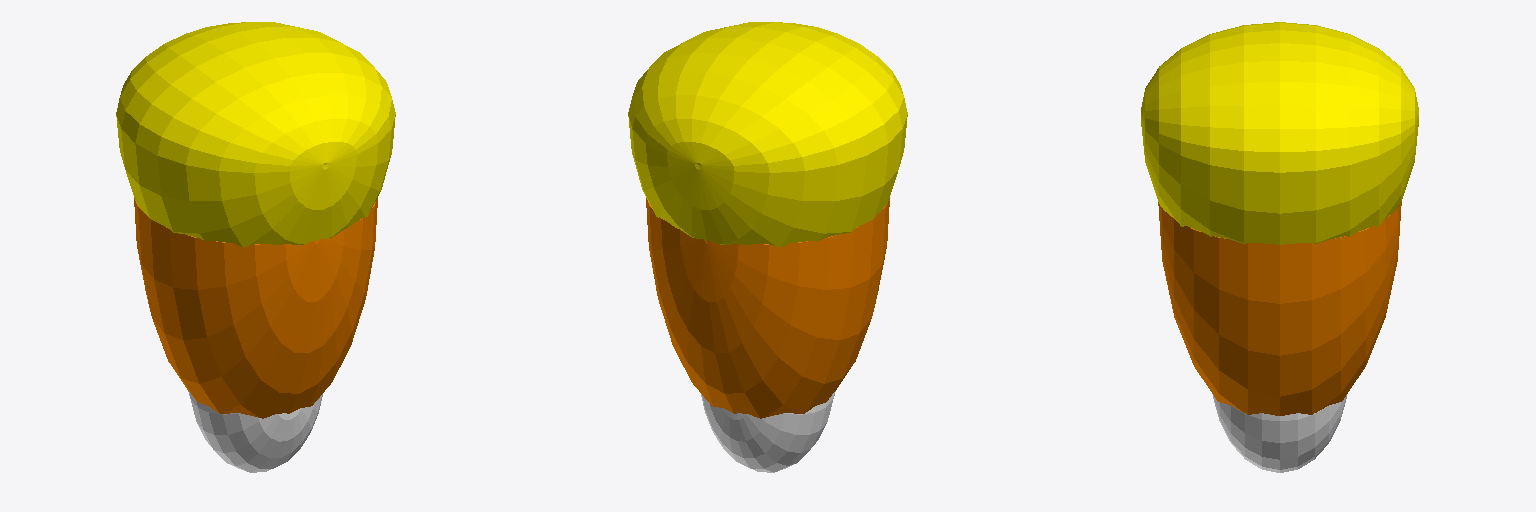
Rendered from candycorn.obj.
3 renders of one model, left to right at view 1: azimuth 30°, elevation 25°; view 2: azimuth 150°, elevation 25°; view 3: azimuth 270°, elevation 25°, orthographic.
Visible parts, largest first — view 1: sphere_dome_38, sphere_dome_40, sphere_dome_39, sphere_dome_37; view 2: sphere_dome_38, sphere_dome_40, sphere_dome_39, sphere_dome_37; view 3: sphere_dome_38, sphere_dome_40, sphere_dome_39, sphere_dome_37.
Boxes of the visible parts, x1,y1,x2,y2 form: sphere_dome_38: [134, 198, 377, 418]; sphere_dome_40: [116, 22, 395, 172]; sphere_dome_39: [116, 115, 395, 247]; sphere_dome_37: [188, 391, 322, 472]; sphere_dome_38: [646, 198, 889, 418]; sphere_dome_40: [628, 22, 907, 172]; sphere_dome_39: [628, 115, 907, 247]; sphere_dome_37: [701, 391, 835, 472]; sphere_dome_38: [1158, 202, 1401, 415]; sphere_dome_40: [1141, 22, 1418, 172]; sphere_dome_39: [1141, 118, 1418, 244]; sphere_dome_37: [1213, 395, 1346, 472].
Size of the model in its own units: 1.6 by 2.7 by 1.6.